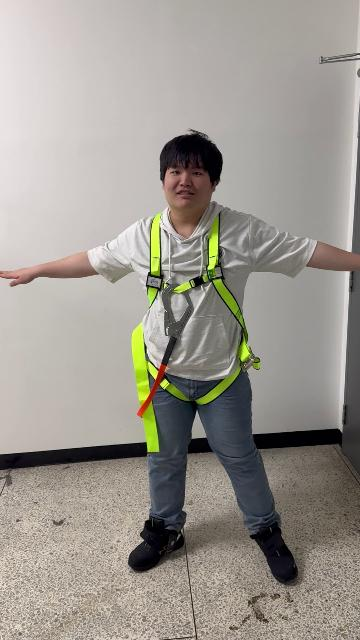helmet_not_worn: (152, 132, 225, 199)
shoe_worn: (127, 517, 184, 571), (250, 525, 297, 583)
vest_worn: (126, 211, 259, 450)
